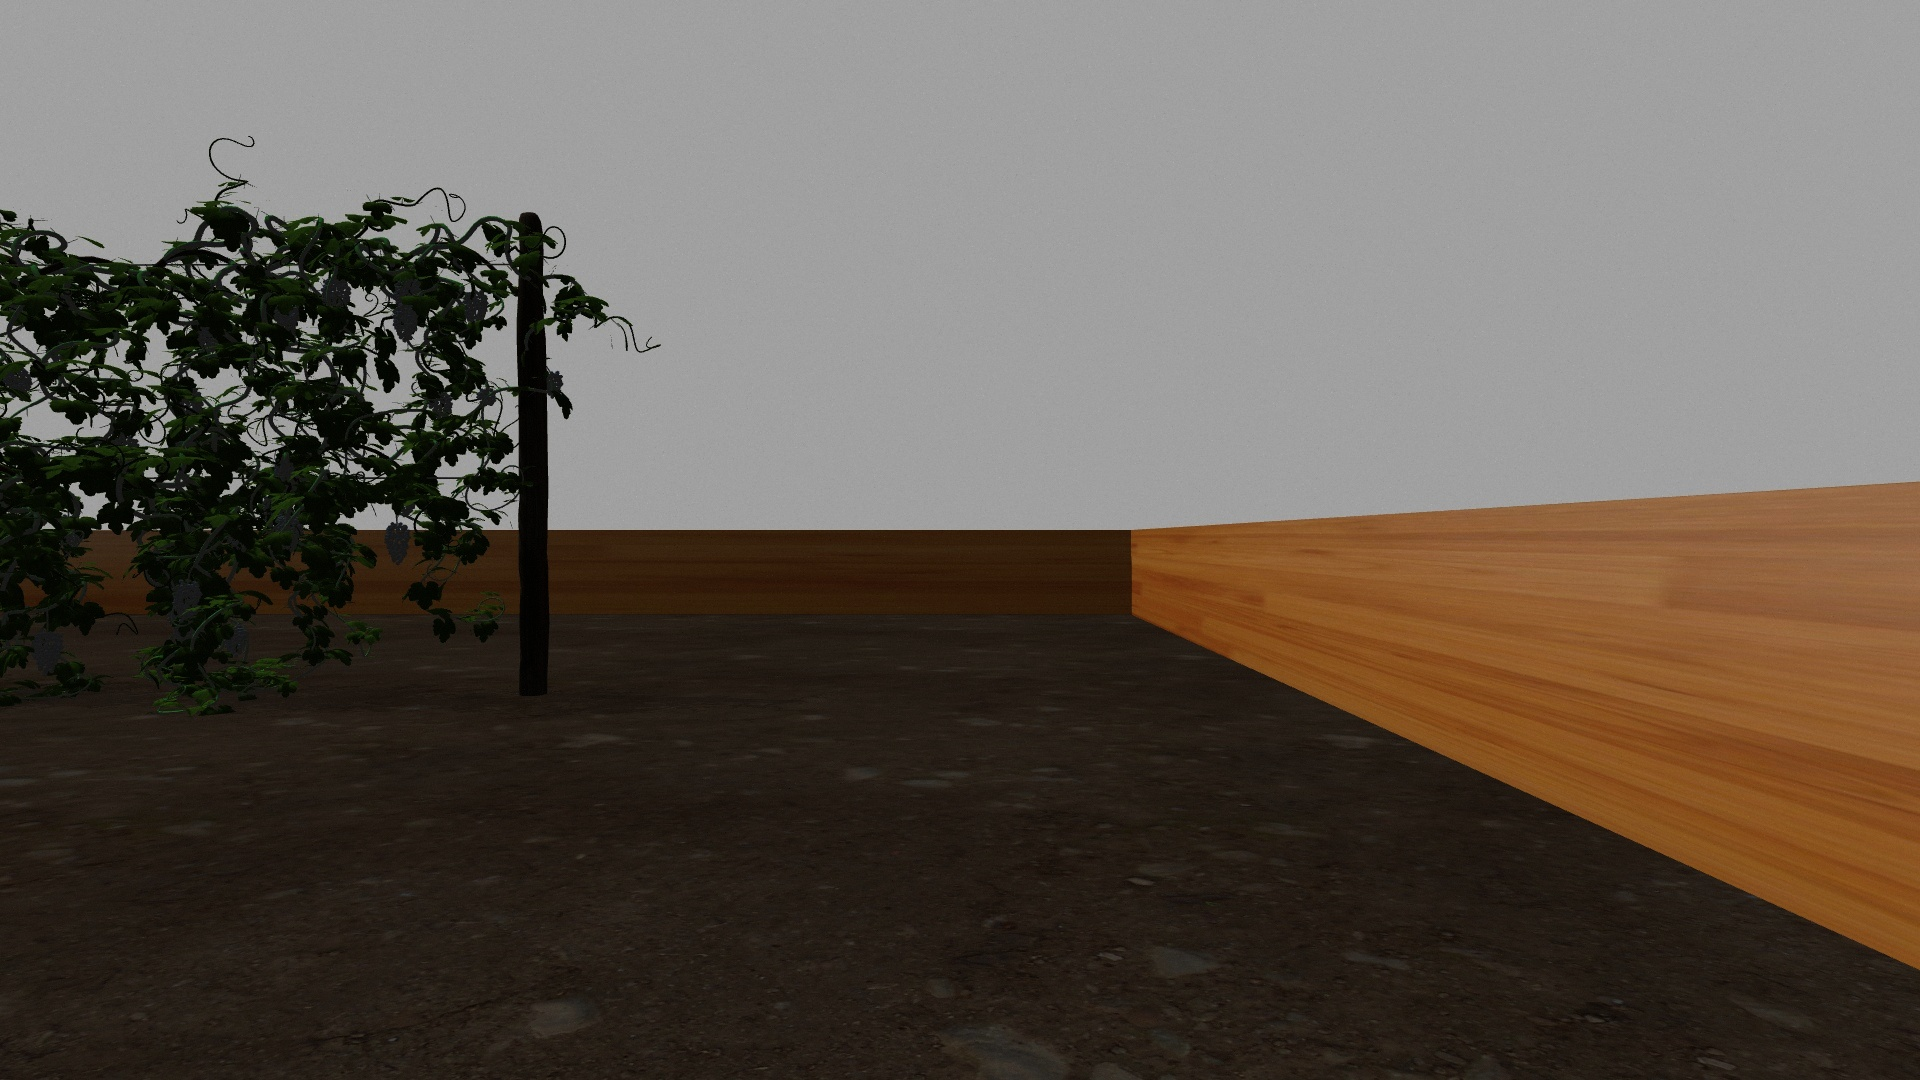grape: (32, 630, 65, 674), (171, 579, 202, 625), (382, 520, 410, 564), (393, 305, 419, 342), (273, 301, 301, 334), (223, 622, 248, 657), (320, 280, 351, 307), (463, 291, 489, 323), (5, 371, 32, 393), (431, 392, 452, 418), (547, 371, 564, 400), (276, 458, 295, 481)
